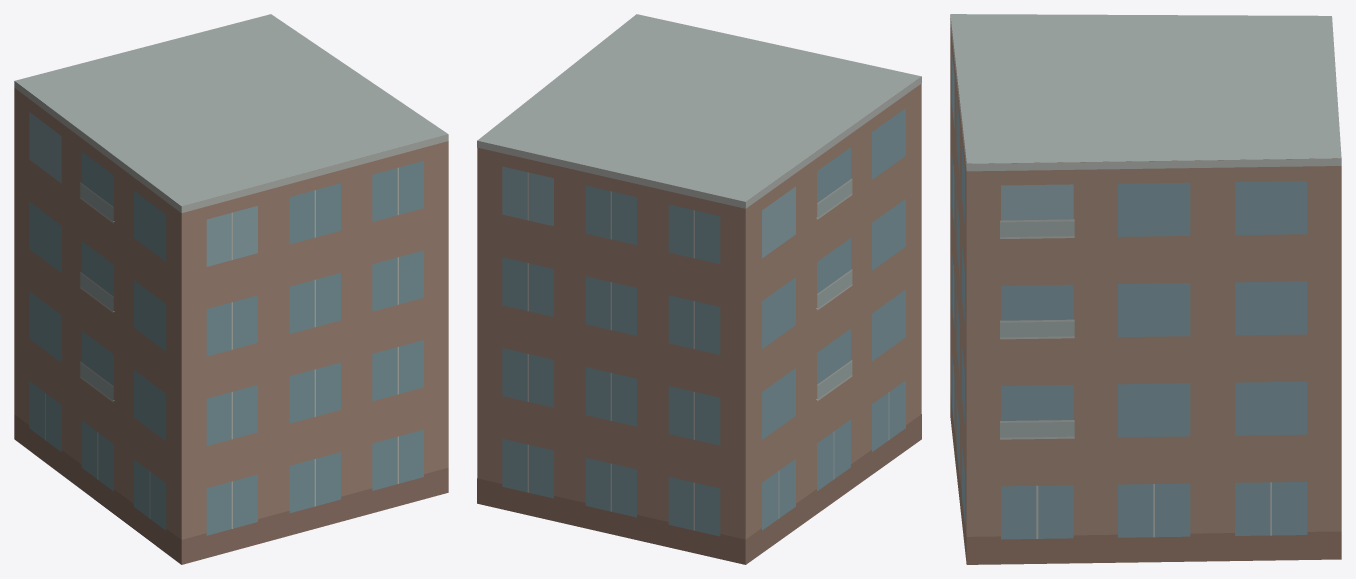
Rendered from survey-upis-33046650.glb.
3 renders of one model, left to right at view 1: azimuth 30°, elevation 25°; view 2: azimuth 150°, elevation 25°; view 3: azimuth 270°, elevation 25°, orthographic. The views are drawn at different scales.
Parts seen in each view (by area): view 1: survey-upis-33046650.tmp; view 2: survey-upis-33046650.tmp; view 3: survey-upis-33046650.tmp.
Part boxes in pixels (box(x1,y1,x2,y2)): survey-upis-33046650.tmp: box(14, 14, 448, 564); survey-upis-33046650.tmp: box(477, 14, 921, 564); survey-upis-33046650.tmp: box(950, 14, 1341, 564).
Size of the model in its own units: 10.3 by 12.85 by 11.37.
